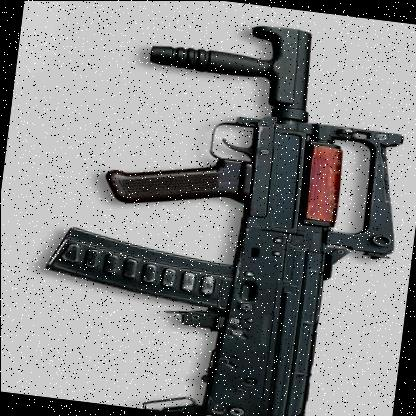rifle: (38, 7, 416, 416)
